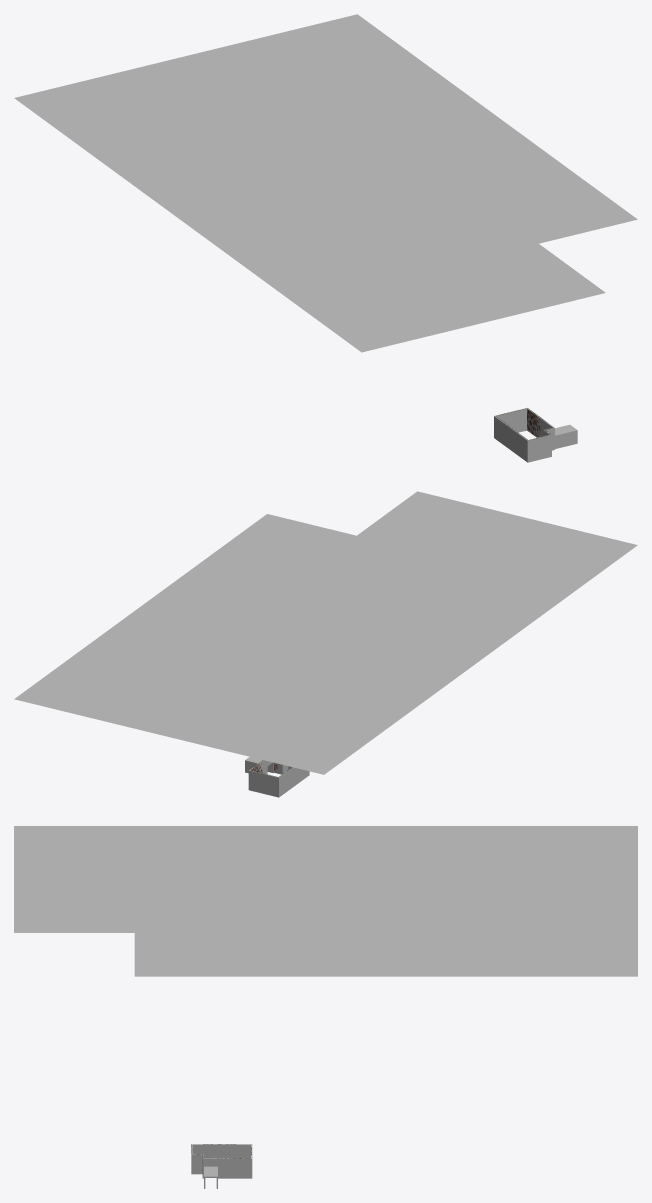
Rendered from House_base.fbx.
3 views of the same model, one above another, from view 1: azimuth 30°, elevation 25°; view 2: azimuth 150°, elevation 25°; view 3: azimuth 270°, elevation 25° (orthographic). The views are drawn at different scales.
Visible parts, largest first — view 1: Ceiling.001, HomeWalls; view 2: Ceiling.001, HomeWalls; view 3: Ceiling.001, HomeWalls.
Part boxes in pixels (bbox=[...]): Ceiling.001: bbox=[14, 14, 637, 352]; HomeWalls: bbox=[494, 408, 577, 462]; Ceiling.001: bbox=[14, 491, 637, 774]; HomeWalls: bbox=[245, 757, 309, 797]; Ceiling.001: bbox=[14, 826, 637, 976]; HomeWalls: bbox=[191, 1144, 252, 1188].
Size of the model in its own units: 216 by 84.81 by 123.
